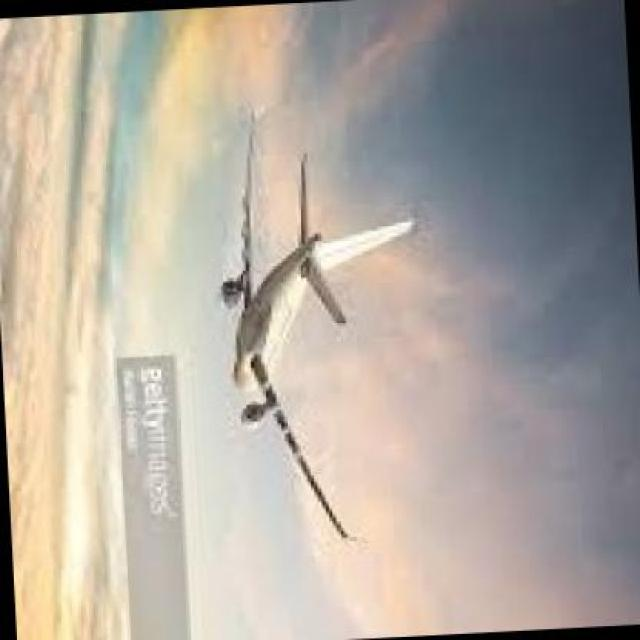iha: (222, 99, 418, 541)
